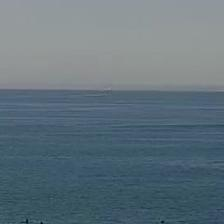surfer: (160, 220, 165, 223), (26, 219, 28, 223), (39, 221, 43, 223)
